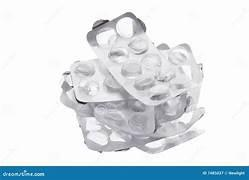pill_Strip: (87, 13, 184, 104), (75, 109, 198, 152), (61, 89, 133, 151), (62, 89, 154, 135), (160, 43, 202, 111), (70, 59, 131, 101), (71, 59, 131, 101), (93, 99, 154, 135), (77, 116, 131, 151), (87, 12, 144, 45), (160, 43, 202, 83), (136, 128, 202, 153), (153, 107, 204, 136), (155, 93, 187, 125)
